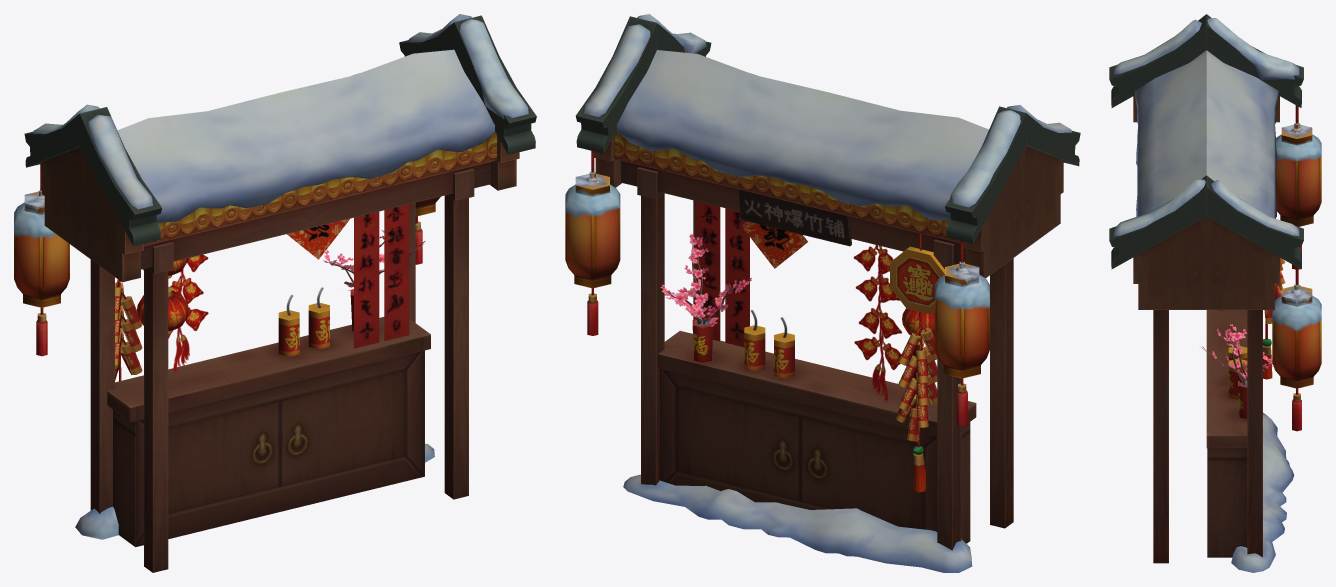
File: furn_xn2018_deco_004.gltf
The picture shows the model from 3 angles, left to right: view 1: azimuth 30°, elevation 25°; view 2: azimuth 150°, elevation 25°; view 3: azimuth 270°, elevation 25°; orthographic projection. The views are drawn at different scales.
Visible parts, largest first — view 1: xn2018_deco_004; view 2: xn2018_deco_004; view 3: xn2018_deco_004.
Boxes of the visible parts, x1,y1,x2,y2 form: xn2018_deco_004: [14, 14, 536, 572]; xn2018_deco_004: [565, 14, 1080, 572]; xn2018_deco_004: [1109, 14, 1321, 572].
Bounding box in the file's own units: 1.7 × 1.69 × 0.8216.
2 materials, 2 textured.
